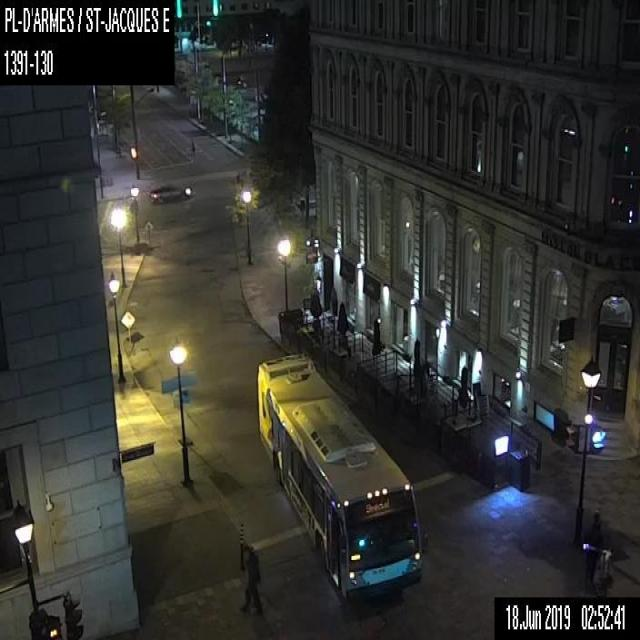bus: (255, 349, 423, 597)
pedestrian: (581, 506, 604, 594), (238, 533, 260, 612), (191, 136, 196, 159)
vehicle: (148, 180, 193, 203)
